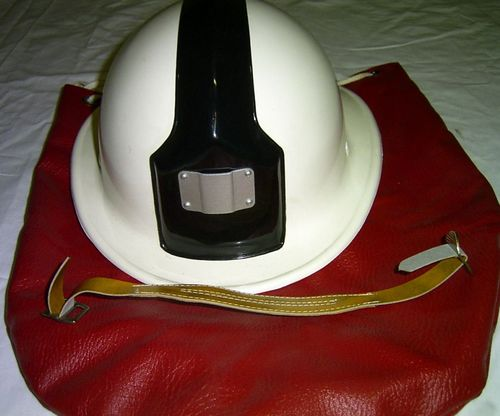helmet: (100, 13, 366, 252)
